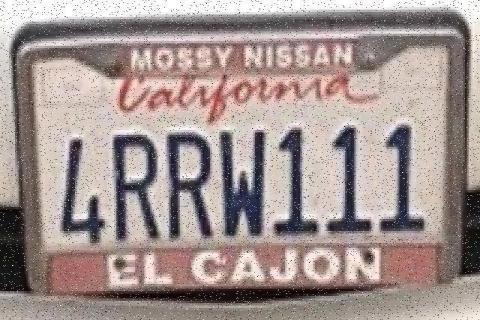LicensePlate: (5, 16, 475, 306)
